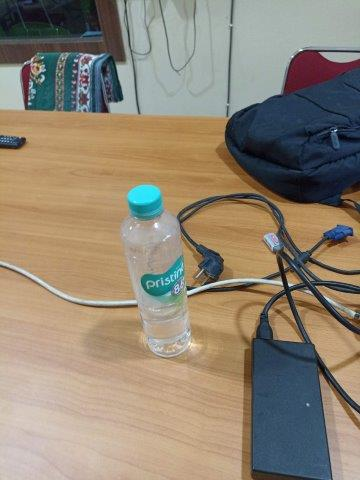botolplastik: (121, 183, 191, 358)
